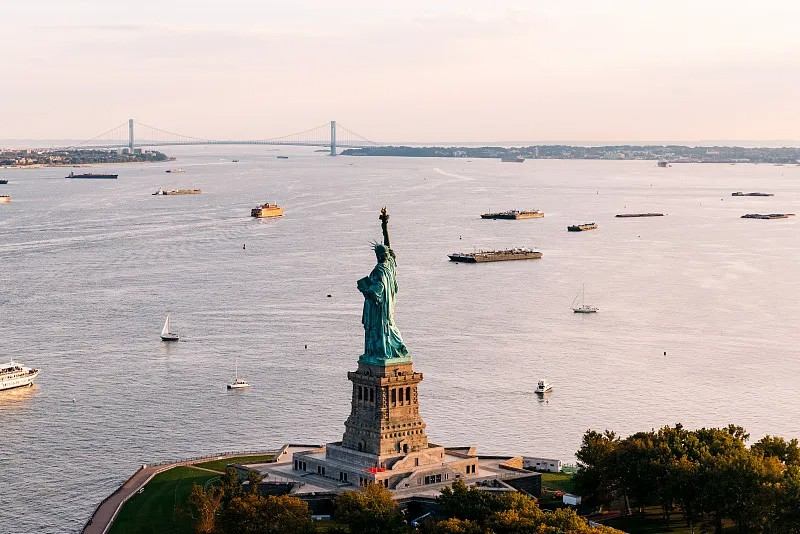SL: (341, 207, 427, 455)
